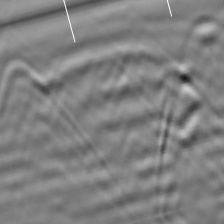Utility: (0, 55, 53, 123), (184, 15, 224, 56)
